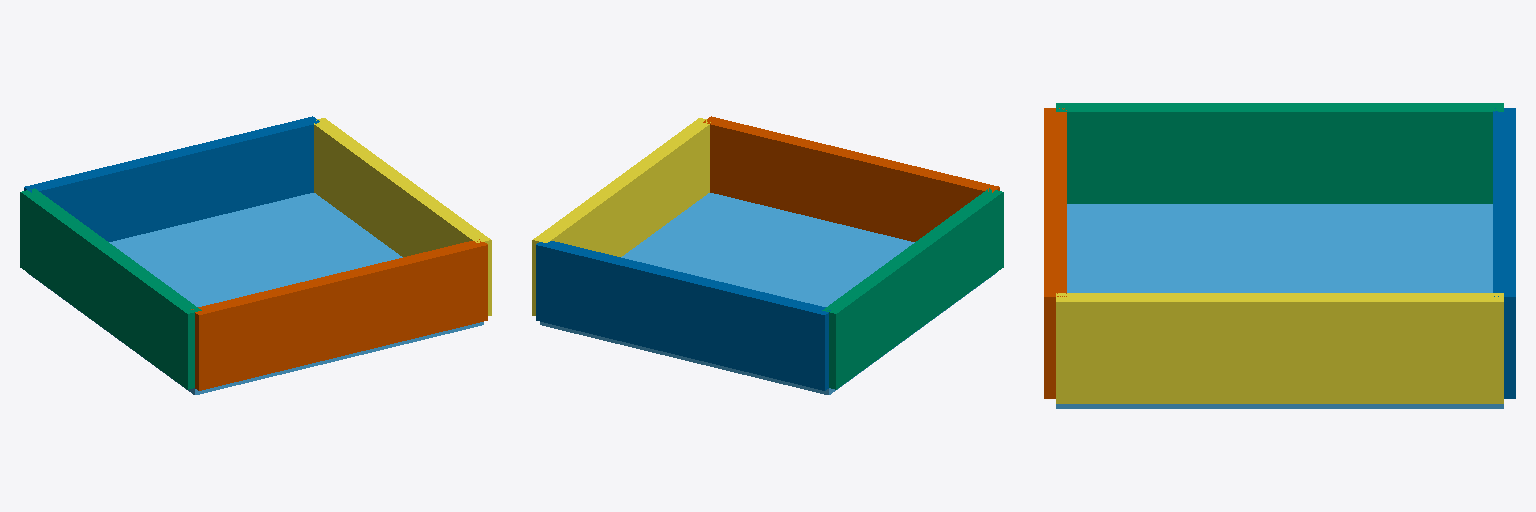
The robot description file, URDF, robot "bin":
<?xml version='1.0'?>
<robot name ='bin'>

    <link name="world"/>

    <joint name = "joint_fix" type = "fixed">
        <parent link="world"/>
        <child link = "bottom"/>
    </joint>


    <link name ="bottom"> <!--2-->
        <collision name="basket_bottom_collision">
            <origin xyz="0 0 0" rpy="0 0 0"/>a
            <geometry>
                <box size="0.4 0.4 0.02"/> <!--3-->
            </geometry>
        </collision>

        <visual>
            <origin xyz="0 0 0" rpy="0 0 0"/>
            <geometry>
                <box size="0.4 0.4 0.02"/>
            </geometry>
        </visual>

        <inertial>
            <origin xyz="0 0 0" rpy="0 0 0" />
            <mass value="0.05" />
            <inertia
                    ixx="0.001" ixy="0.0"  ixz="0.0"
                    iyy="0.001" iyz="0.0"
                    izz="0.001" />
        </inertial>

    </link>



    <joint name = "left_wall" type = "fixed">
        <parent link="bottom"/>
        <child link = "left"/>
    </joint>


    <link name = "left">
        <collision> <!--4-->
            <origin xyz="-0.2 0 0.05" rpy="0 0 0"/>
            <geometry>
                <box size="0.02 0.4 0.1"/>
            </geometry>
        </collision>

        <visual>
            <origin xyz="-0.2 0 0.05" rpy="0 0 0"/>
            <geometry>
                <box size="0.02 0.4 0.1"/>
            </geometry>
        </visual>

        <inertial>
            <origin xyz="-0.2 0 0.05" rpy="0 0 0" />
            <mass value="0.05" />
            <inertia
                    ixx="0.001" ixy="0.0"  ixz="0.0"
                    iyy="0.001" iyz="0.0"
                    izz="0.001" />
        </inertial>
    </link>

    <joint name = "right_wall" type = "fixed">
        <parent link="bottom"/>
        <child link = "right"/>
    </joint>

    <link name="right">
        <collision>
            <origin xyz="0.2 0 0.05" rpy="0 0 0"/>
            <geometry>
                <box size="0.02 0.4 0.1"/>
            </geometry>
        </collision>

        <visual>
            <origin xyz="0.2 0 0.05" rpy="0 0 0"/>
            <geometry>
                <box size="0.02 0.4 0.1"/>
            </geometry>
        </visual>

        <inertial>
            <origin xyz="0.2 0 0.05" rpy="0 0 0" />
            <mass value="0.05" />
            <inertia
                    ixx="0.001" ixy="0.0"  ixz="0.0"
                    iyy="0.001" iyz="0.0"
                    izz="0.001" />
        </inertial>
    </link>

    <joint name = "back_wall" type = "fixed">
        <parent link="bottom"/>
        <child link = "back"/>
    </joint>

    <link name="back">
        <collision>
            <origin xyz="0 0.2 0.05" rpy="0 0 0"/>
            <geometry>
                <box size="0.4 0.02 0.1"/>
            </geometry>
        </collision>

        <visual>
            <origin xyz="0 0.2 0.05" rpy="0 0 0"/>
            <geometry>
                <box size="0.4 0.02 0.1"/>
            </geometry>
        </visual>

        <inertial>
            <origin xyz="0 0.2 0.05" rpy="0 0 0" />
            <mass value="0.05" />
            <inertia
                    ixx="0.001" ixy="0.0"  ixz="0.0"
                    iyy="0.001" iyz="0.0"
                    izz="0.001" />
        </inertial>
    </link>

    <joint name = "front_wall" type = "fixed">
        <parent link="bottom"/>
        <child link = "front"/>
    </joint>

    <link name="front">
        <collision>
            <origin xyz="0 -0.2 0.05" rpy= "0 0 0"/>
            <geometry>
                <box size="0.4 0.02 0.1"/>
            </geometry>
        </collision>

        <visual>
            <origin xyz="0 -0.2 0.05" rpy="0 0 0"/>
            <geometry>
                <box size="0.4 0.02 0.1"/>
            </geometry>
        </visual>

        <inertial>
            <origin xyz="0 -0.2 0.05" rpy="0 0 0"/>
            <mass value="0.05" />
            <inertia
                    ixx="0.001" ixy="0.0"  ixz="0.0"
                    iyy="0.001" iyz="0.0"
                    izz="0.001" />
        </inertial>
    </link>

    <gazebo reference="bottom">
        <mu1>10</mu1>
        <mu2>10</mu2>
<!--        <material>Gazebo/Blue</material>-->
    </gazebo>

    <gazebo reference="right">
        <mu1>10</mu1>
        <mu2>10</mu2>
        <material>Gazebo/Blue</material>
    </gazebo>

    <gazebo reference="left">
        <mu1>10</mu1>
        <mu2>10</mu2>
        <material>Gazebo/Blue</material>
    </gazebo>

    <gazebo reference="back">
        <mu1>10</mu1>
        <mu2>10</mu2>
        <material>Gazebo/Blue</material>
    </gazebo>

    <gazebo reference="front">
        <mu1>10</mu1>
        <mu2>10</mu2>
        <material>Gazebo/Blue</material>
    </gazebo>

    <gazebo>
        <plugin name="obj_bin_pose" filename="libobject_pose_plugin.so">
            <updateRate>10.0</updateRate>
            <bodyName>bin_base_link</bodyName>
            <topicName>BinPose</topicName>
            <frameName>world</frameName>
        </plugin>
    </gazebo>

    <gazebo reference="bottom">
        <sensor type="contact" name="bottom_contact_sensor">
            <selfCollide>true</selfCollide>
            <update_rate>50</update_rate>
            <always_on>true</always_on>
            <contact>
                <collision>basket_bottom_collision</collision>
                <topic>/bumper_contact</topic>
            </contact>
            <plugin name="gazebo_ros_bumper_controller" filename="libgazebo_ros_bumper.so">
                <alwaysOn>true</alwaysOn>
                <updateRate>1000.0</updateRate>
                <bumperTopicName>/robot_bumper</bumperTopicName>
                <frameName>world</frameName>
            </plugin>
        </sensor>

    </gazebo>


</robot>

--- Render facts (derived) ---
Views: 3 orthographic renders of the robot side by side, from view 1: azimuth 30°, elevation 25°; view 2: azimuth 150°, elevation 25°; view 3: azimuth 270°, elevation 25°.
Model bin with 6 links and 5 joints (5 fixed), rooted at world, posed all joints at 0.
Links seen in each view (by area): view 1: front, bottom, back, left, right; view 2: back, bottom, front, left, right; view 3: right, left, bottom, front, back.
Link boxes in pixels (box(x1,y1,x2,y2)): front: box(191, 239, 487, 390); bottom: box(28, 193, 483, 394); back: box(24, 116, 319, 241); left: box(20, 188, 201, 389); right: box(314, 118, 491, 315); back: box(536, 241, 830, 390); bottom: box(540, 193, 995, 394); front: box(703, 116, 999, 241); left: box(822, 188, 1003, 389); right: box(532, 118, 710, 315); right: box(1056, 293, 1503, 403); left: box(1056, 103, 1503, 203); bottom: box(1056, 204, 1503, 408); front: box(1044, 108, 1066, 398); back: box(1493, 108, 1515, 398).
Bounding box of the posed robot: 0.42 × 0.42 × 0.11 m (x, y, z).
Geometry: primitives only (box / cylinder / sphere), no mesh files.